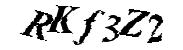2: (146, 14, 162, 42)
3: (102, 15, 119, 42)
K: (46, 5, 79, 33)
R: (20, 10, 52, 40)
Z: (116, 9, 149, 36)
f: (73, 10, 104, 44)
